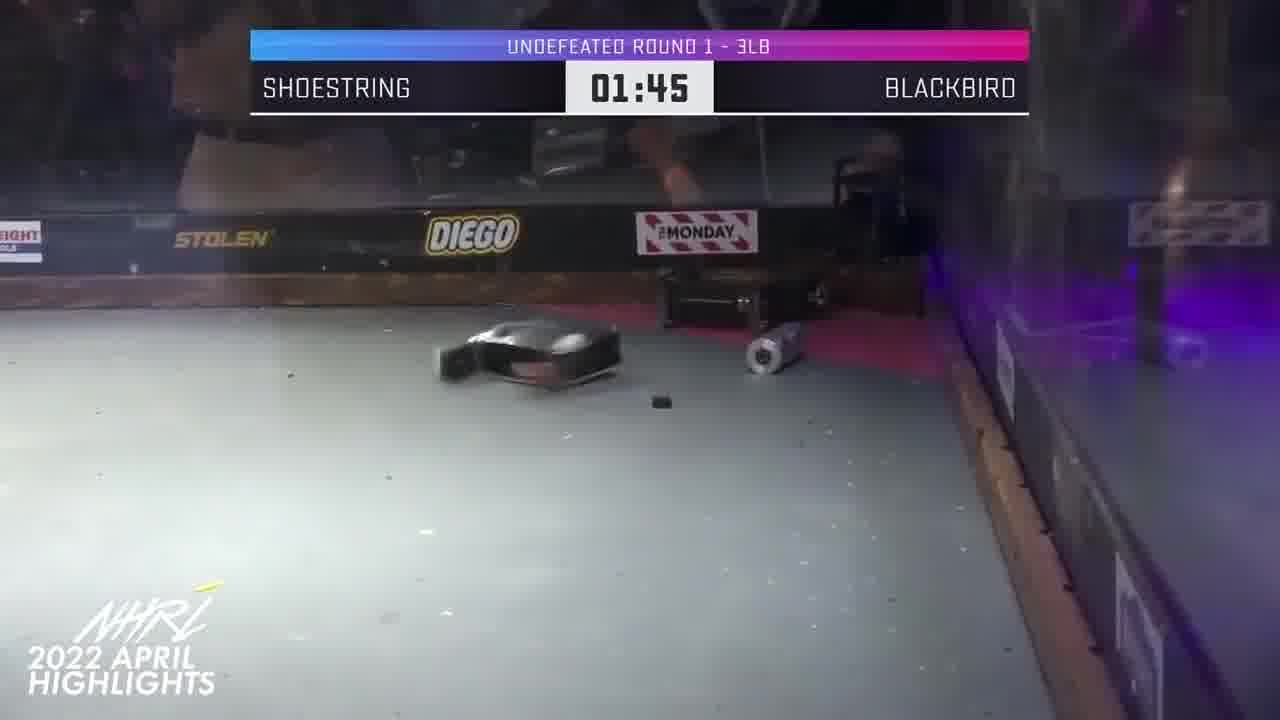combatbot: (436, 316, 623, 394), (653, 265, 826, 331)
debris: (651, 394, 671, 408)
minibot: (743, 321, 810, 378)
